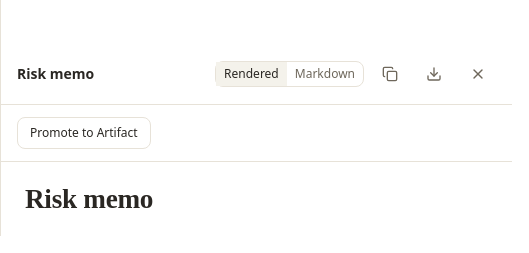
it: CanvasPane download › closes the menu after a format is chosen
What coordinates should you click on to do the following:
click the button named "Download"
I would click on:
 (434, 74)
Its box is [416, 56, 452, 92].
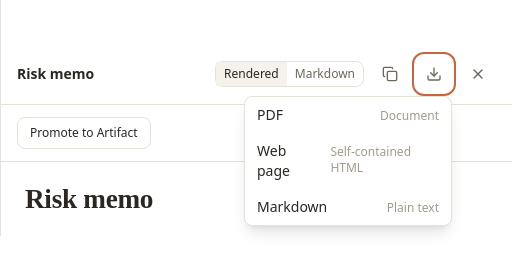
What coordinates should you click on to do the following:
click the link "Markdown Plain text"
I would click on:
 (292, 206)
Its box is [257, 197, 439, 216].
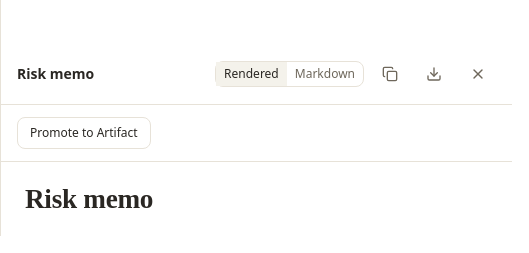
Expected: the link "PDF" is gone
